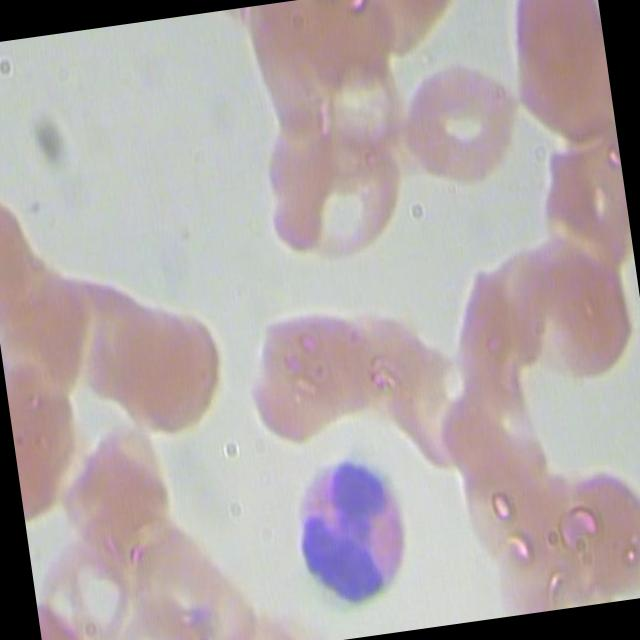RBC: (242, 288, 394, 452), (44, 409, 195, 573), (499, 227, 640, 390), (423, 360, 558, 510), (283, 118, 417, 268), (395, 54, 530, 194), (501, 0, 618, 156), (115, 290, 233, 440), (122, 516, 240, 640), (553, 454, 640, 599)
WBC: (279, 435, 423, 612)
